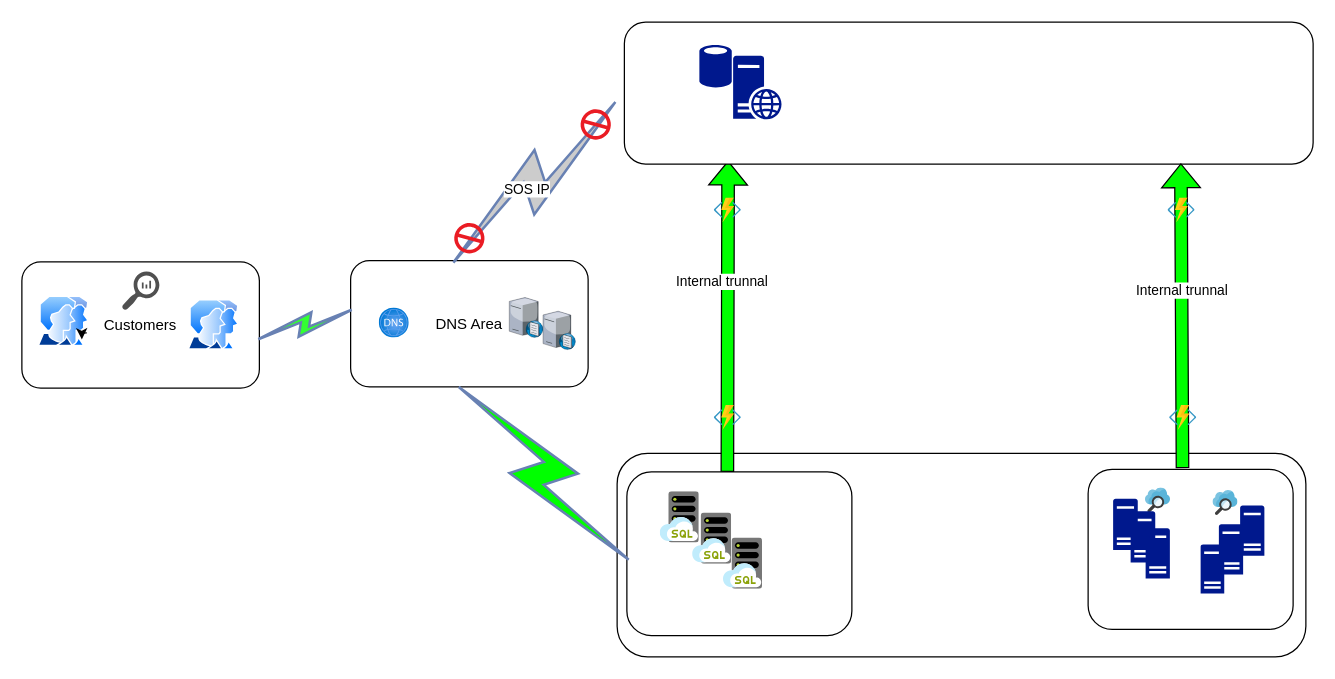
The diagram is 1335 pixels wide and 679 high, and some of its shapes have lost their labels. Here are the shapes that lost their labels. From the top down, the box of each, then its label:
(623, 21, 1313, 164): BCP-DYX Virtual Data Center
(616, 452, 1306, 657): Production TKO Data Center
